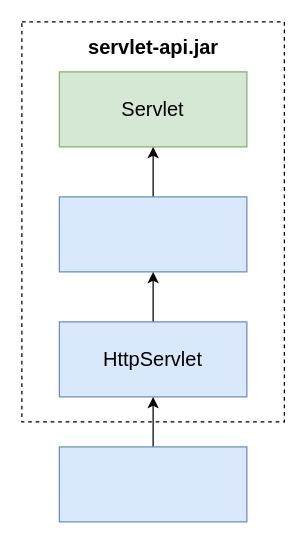
This 306x544 diagram has some shape labels left out. Each missing label, with the centre of its shape:
GenericServlet: point (152, 234)
自定义Servlet: point (152, 484)
